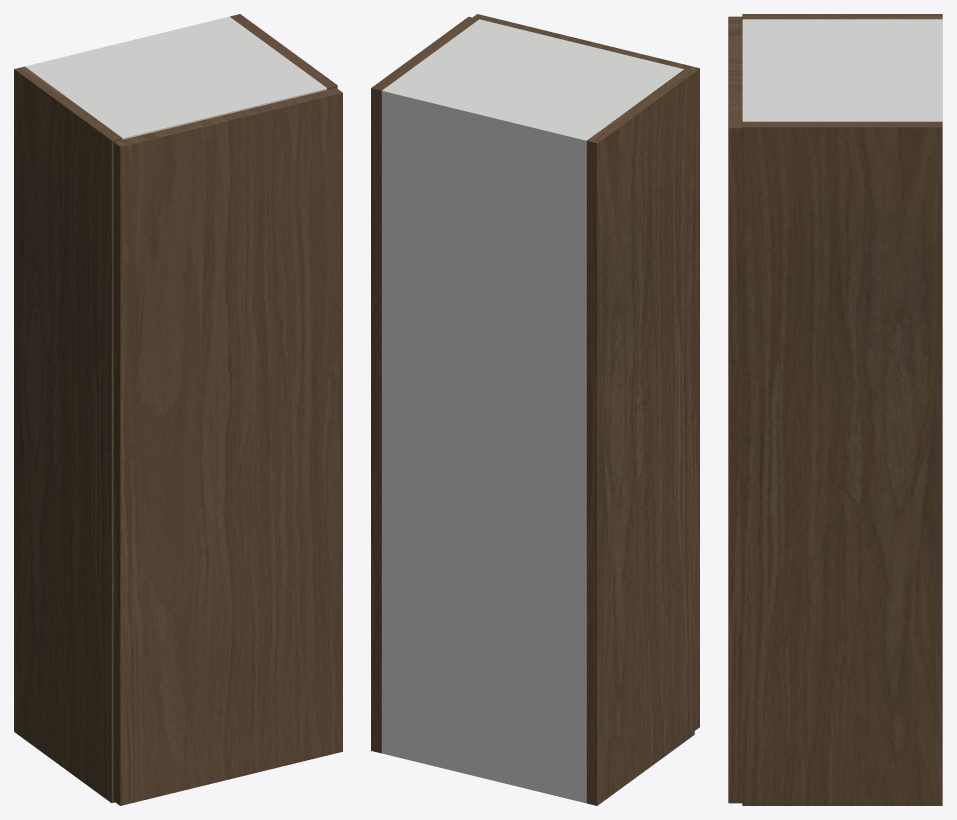
File: oppein-pb-mso-w1542.glb
3 renders of one model, left to right at view 1: azimuth 30°, elevation 25°; view 2: azimuth 150°, elevation 25°; view 3: azimuth 270°, elevation 25°, orthographic. The views are drawn at different scales.
Visible parts, largest first — view 1: Door, Cabinet side, Cabinet top, Cabinet side.001; view 2: Cabinet back, Cabinet side, Cabinet top, Cabinet side.001, Door, Cabinet bottom; view 3: Cabinet side.001, Cabinet top, Door, Cabinet side.
Boxes of the visible parts, x1,y1,x2,y2 form: Door: (113,88,342,805); Cabinet side: (14,66,122,803); Cabinet top: (25,16,326,139); Cabinet side.001: (230,14,337,89); Cabinet back: (382,91,586,803); Cabinet side: (586,69,694,805); Cabinet top: (382,19,683,149); Cabinet side.001: (371,16,478,753); Door: (472,14,699,730); Cabinet bottom: (382,743,586,794); Cabinet side.001: (742,121,942,805); Cabinet top: (742,19,942,121); Door: (728,16,742,803); Cabinet side: (742,14,942,19).
Size of the model in its own units: 0.381 by 1.07 by 0.3048.
2 materials, 1 textured.
